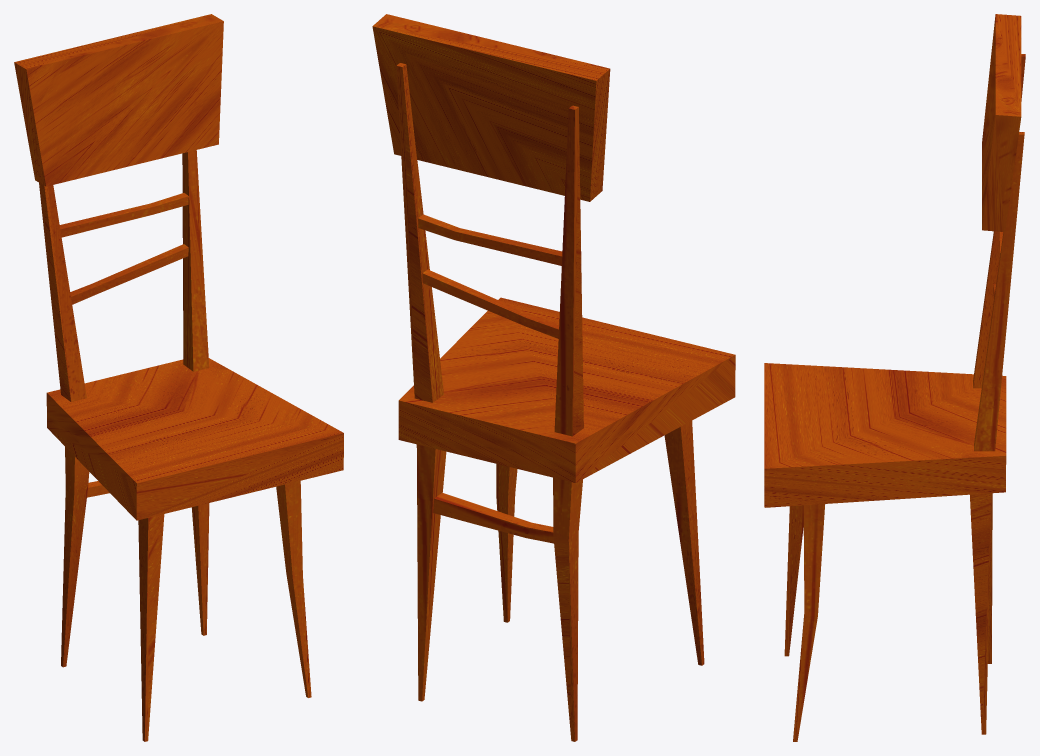
File: chair-1.fbx
3 views of the same model, side by side, from view 1: azimuth 30°, elevation 25°; view 2: azimuth 150°, elevation 25°; view 3: azimuth 270°, elevation 25° (orthographic). The views are drawn at different scales.
Visible parts, largest first — view 1: Sketchfab Model; view 2: Sketchfab Model; view 3: Sketchfab Model.
Boxes of the visible parts, x1=… form: Sketchfab Model: x1=14, y1=14, x2=343, y2=741; Sketchfab Model: x1=372, y1=14, x2=735, y2=741; Sketchfab Model: x1=764, y1=14, x2=1025, y2=741.
Bounding box in the file's own units: 102 × 283 × 106.
Materials: 1 (1 with a texture image).
